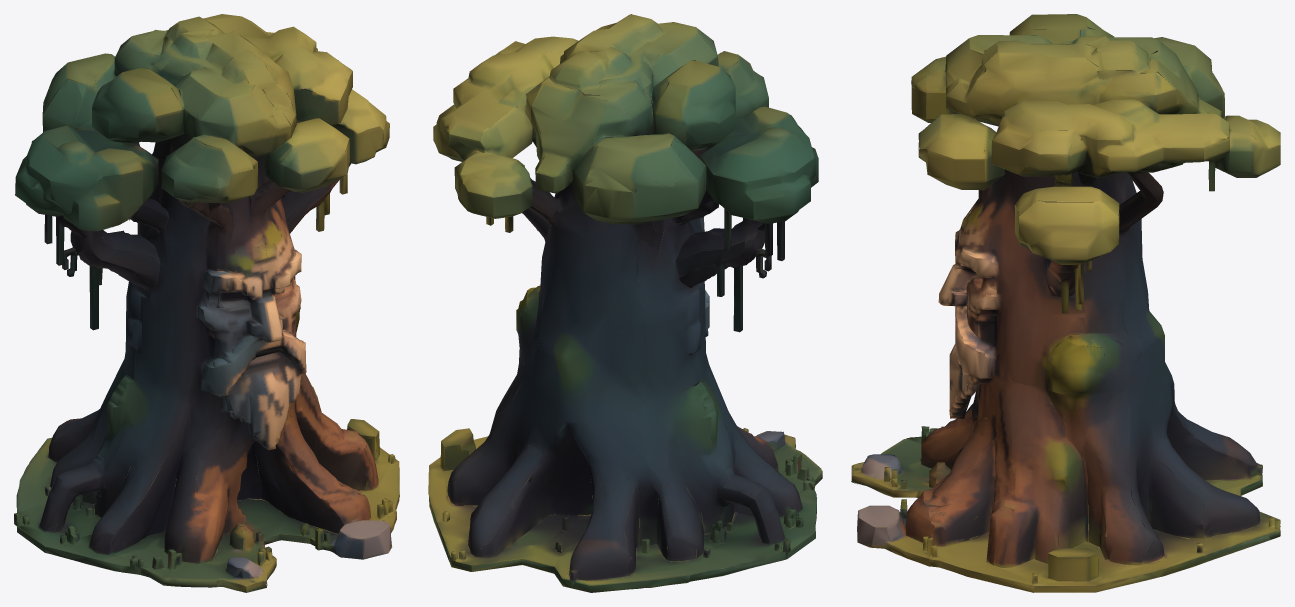
The model's file is god_tree.glb.
3 renders of one model, left to right at view 1: azimuth 30°, elevation 25°; view 2: azimuth 150°, elevation 25°; view 3: azimuth 270°, elevation 25°, orthographic. The views are drawn at different scales.
Parts seen in each view (by area): view 1: node_0; view 2: node_0; view 3: node_0.
Boxes of the visible parts, x1,y1,x2,y2 form: node_0: [14, 14, 399, 592]; node_0: [428, 14, 822, 592]; node_0: [851, 14, 1280, 592].
Bounding box in the file's own units: 0.7378 × 0.8984 × 0.75.
Materials: 1 (1 with a texture image).
